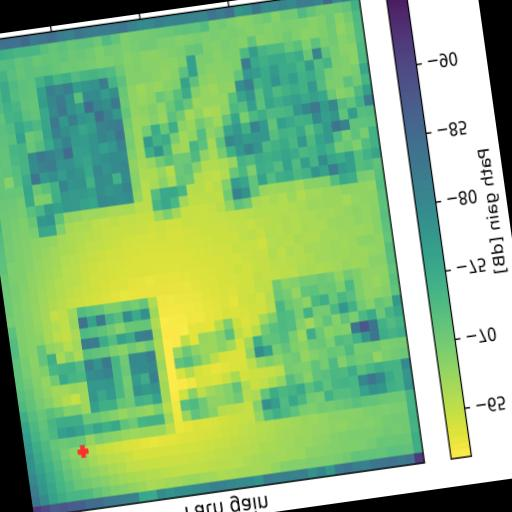Concrete: (270, 266, 380, 416)
Glass: (68, 296, 176, 446)
Metal: (240, 43, 350, 196)
Wood: (36, 66, 142, 212)
